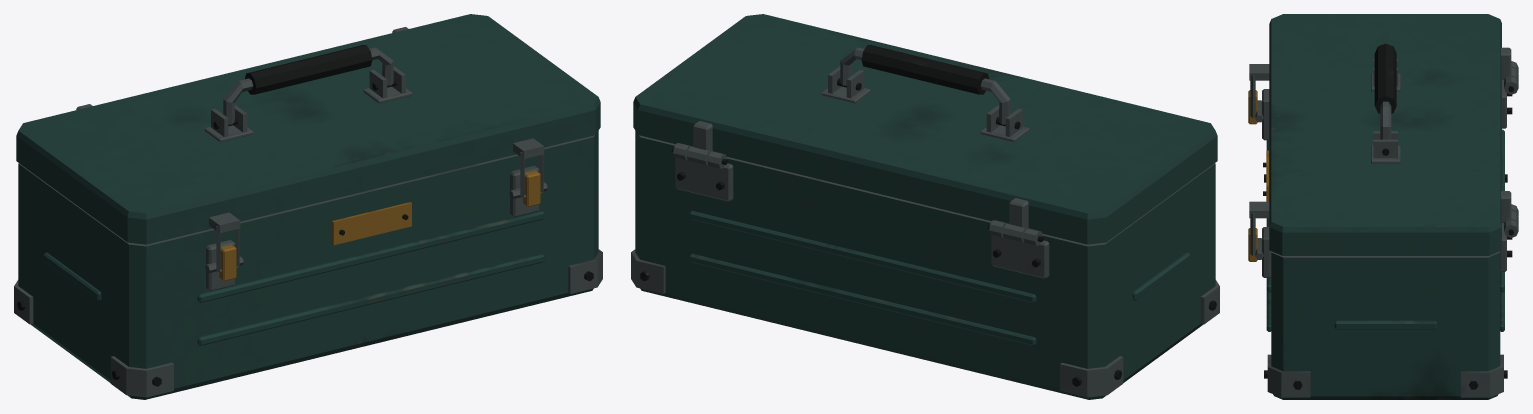
Rendered from metal_toolbox.glb.
The picture shows the model from 3 angles, left to right: view 1: azimuth 30°, elevation 25°; view 2: azimuth 150°, elevation 25°; view 3: azimuth 270°, elevation 25°; orthographic projection. The views are drawn at different scales.
Visible parts, largest first — view 1: ToolboxBody, ToolboxLid, ToolboxHandle, LatchLeft, LatchRight; view 2: ToolboxBody, ToolboxLid, ToolboxHandle; view 3: ToolboxLid, ToolboxBody, ToolboxHandle, LatchLeft, LatchRight.
Boxes of the visible parts, x1,y1,x2,y2 form: ToolboxBody: (14,131,602,399); ToolboxLid: (16,14,600,244); ToolboxHandle: (223,45,393,124); LatchLeft: (216,226,239,281); LatchRight: (520,152,543,206); ToolboxBody: (631,131,1219,399); ToolboxLid: (633,14,1217,244); ToolboxHandle: (840,45,1010,124); ToolboxLid: (1249,14,1518,255); ToolboxBody: (1255,61,1518,399); ToolboxHandle: (1374,43,1396,139); LatchLeft: (1248,75,1257,124); LatchRight: (1248,213,1257,261).
Size of what is drawn, in the model's own units: 0.566 by 0.278 by 0.295.
Materials: 1 (1 with a texture image).
